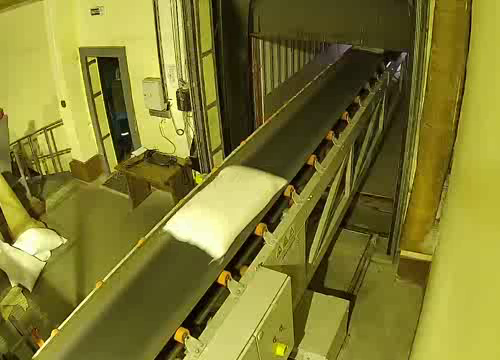bag: (163, 164, 290, 262)
